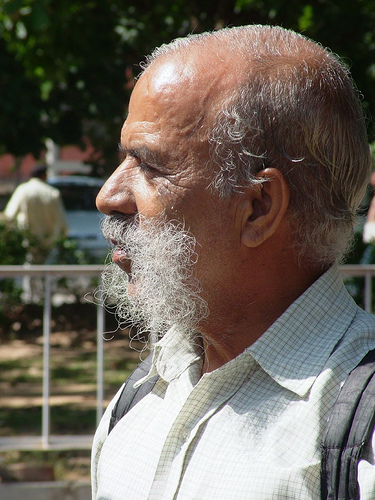without_mask: (103, 56, 295, 342)
